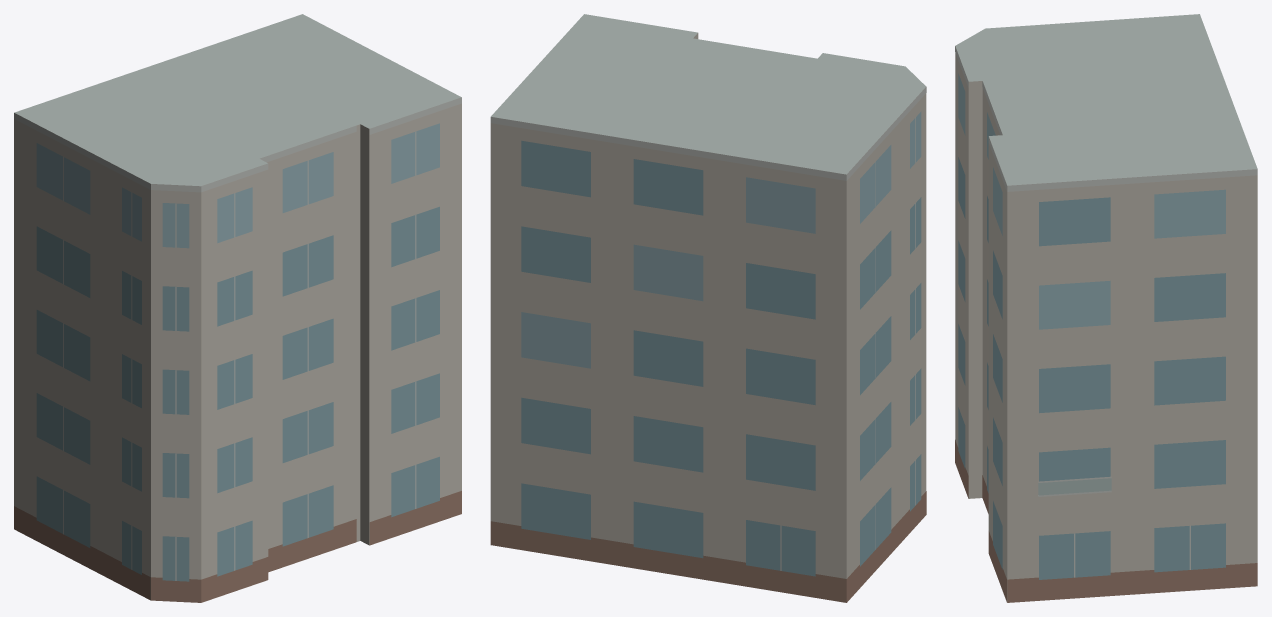
The model's file is survey-upis-32615627.glb.
The picture shows the model from 3 angles, left to right: view 1: azimuth 30°, elevation 25°; view 2: azimuth 150°, elevation 25°; view 3: azimuth 270°, elevation 25°; orthographic projection. The views are drawn at different scales.
Visible parts, largest first — view 1: survey-upis-32615627.tmp; view 2: survey-upis-32615627.tmp; view 3: survey-upis-32615627.tmp.
Part boxes in pixels (bbox=[...]): survey-upis-32615627.tmp: bbox=[14, 14, 461, 602]; survey-upis-32615627.tmp: bbox=[490, 14, 926, 602]; survey-upis-32615627.tmp: bbox=[955, 14, 1257, 602].
Size of the model in its own units: 14.49 by 16.4 by 10.79.
